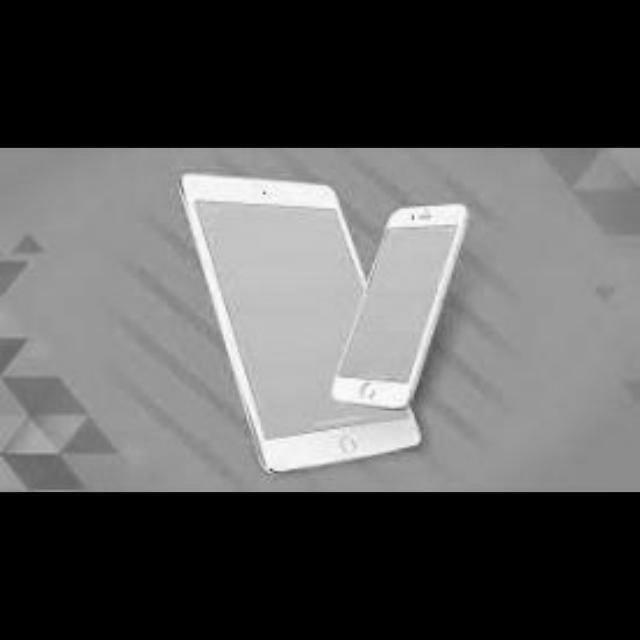fake: (334, 198, 496, 412)
